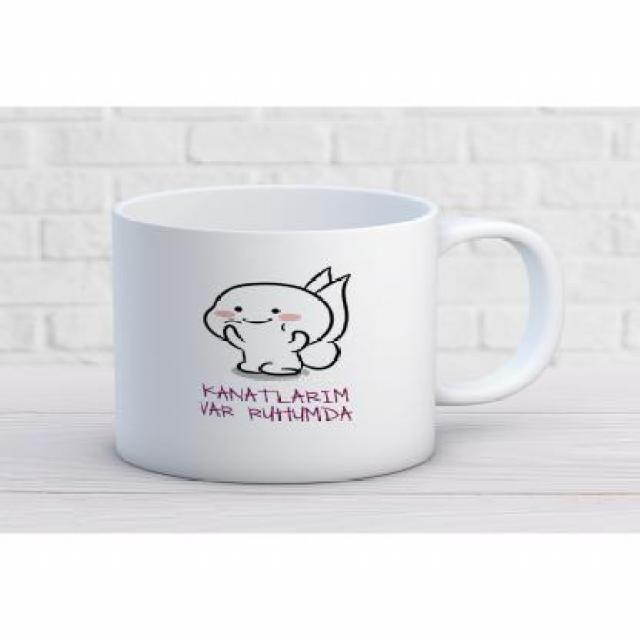taza: (109, 184, 562, 486)
